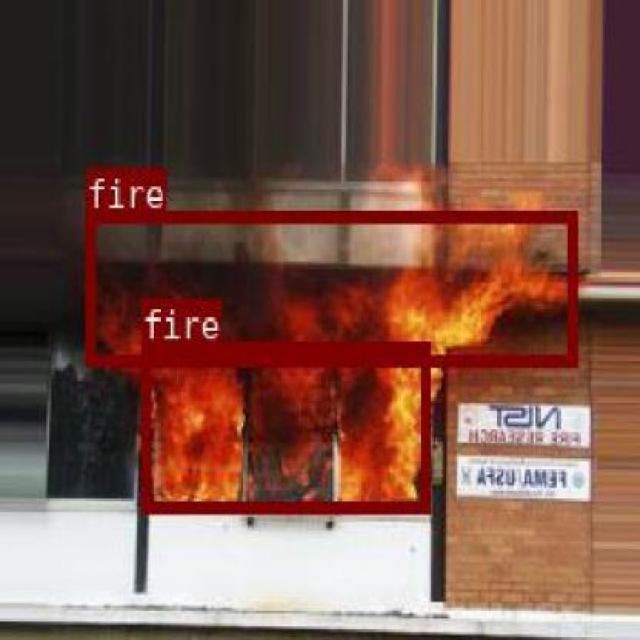fire: (82, 209, 576, 363), (140, 341, 428, 510)
